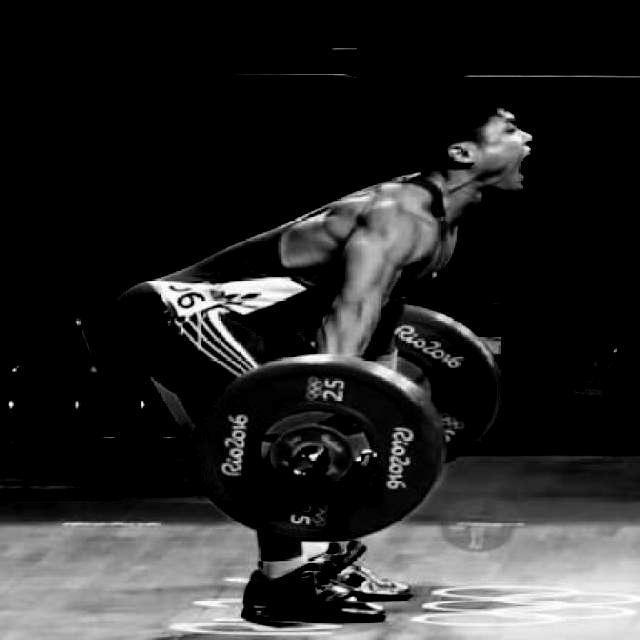barbell: (181, 345, 457, 547)
